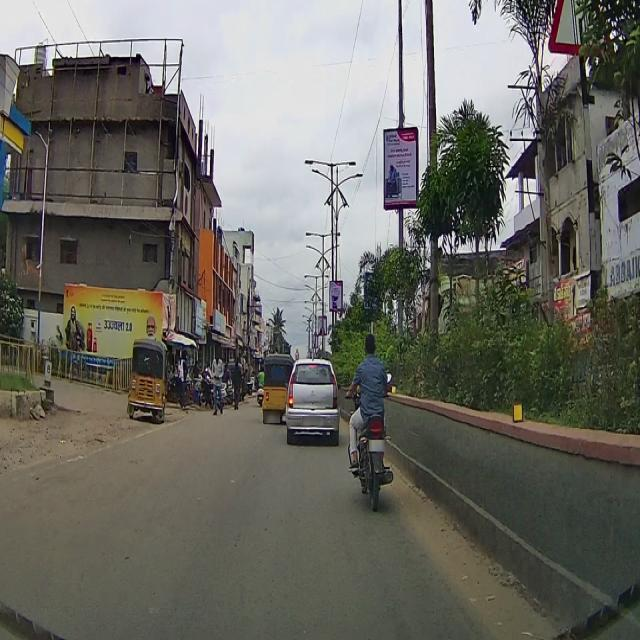gap-in-median: (548, 0, 610, 67)
